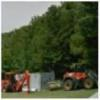tractors: (62, 62, 96, 90), (2, 70, 24, 92)
